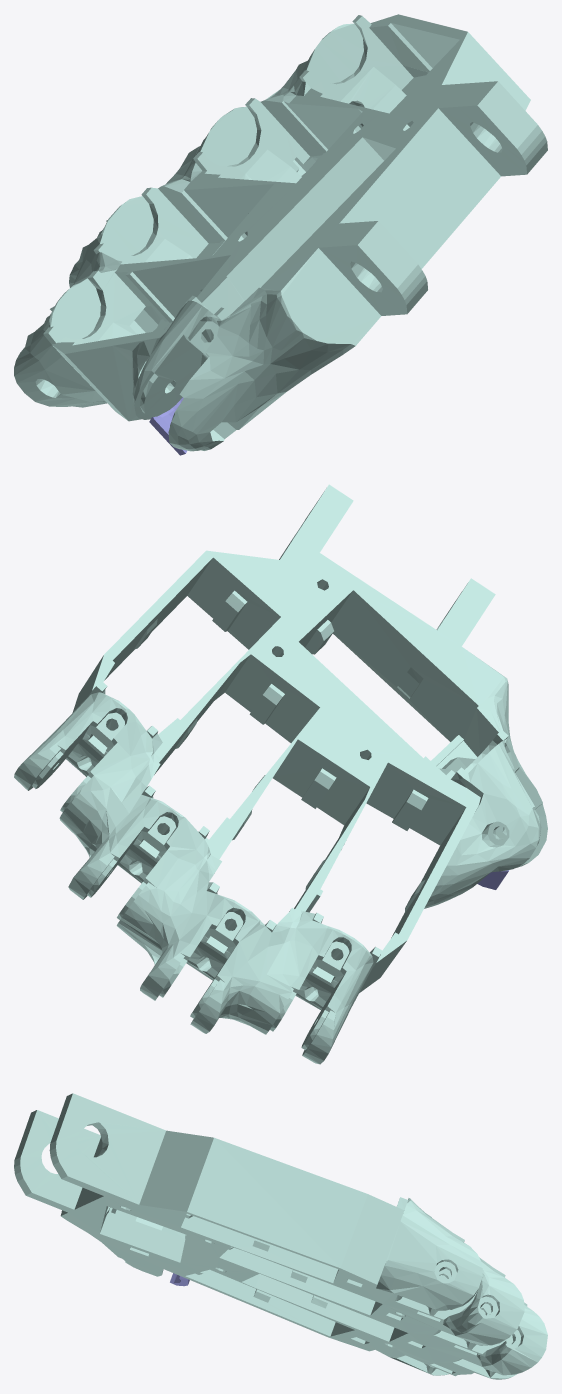
Rendered from right_wrist_z_link_visual_3.obj.light.glb.
3 views of the same model, one above another, from view 1: azimuth 30°, elevation 25°; view 2: azimuth 150°, elevation 25°; view 3: azimuth 270°, elevation 25° (orthographic). The views are drawn at different scales.
Bounding box in the file's own units: 0.9967 × 0.9879 × 1.31.
